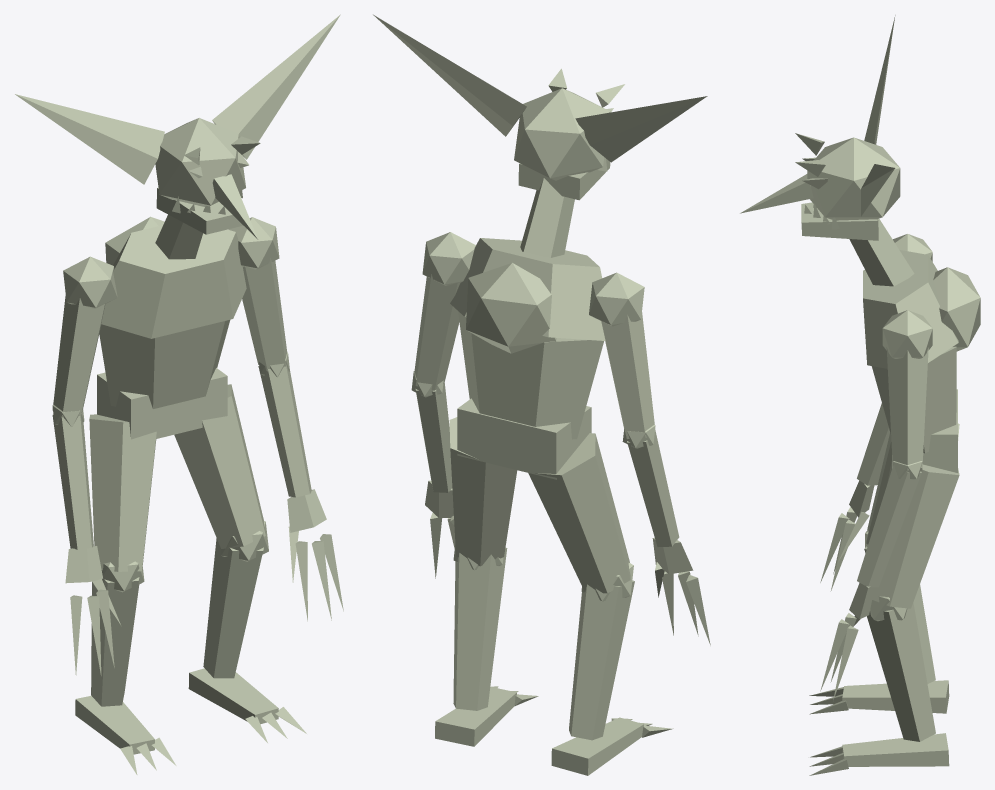
The model's file is goblin_lowpoly.glb.
The picture shows the model from 3 angles, left to right: view 1: azimuth 30°, elevation 25°; view 2: azimuth 150°, elevation 25°; view 3: azimuth 270°, elevation 25°; orthographic projection. The views are drawn at different scales.
Visible parts, largest first — view 1: Goblin_LowPoly; view 2: Goblin_LowPoly; view 3: Goblin_LowPoly.
Boxes of the visible parts, x1,y1,x2,y2 form: Goblin_LowPoly: [15, 14, 343, 774]; Goblin_LowPoly: [373, 14, 710, 775]; Goblin_LowPoly: [740, 15, 980, 775].
Size of the model in its own units: 2.1 by 4.1 by 1.39.
